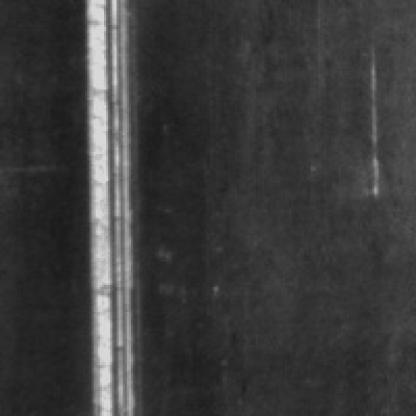scratches: (86, 0, 150, 412)
